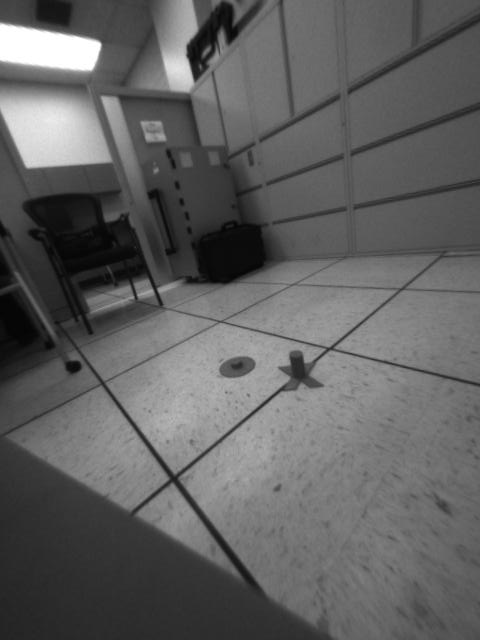X: (277, 349, 326, 391)
